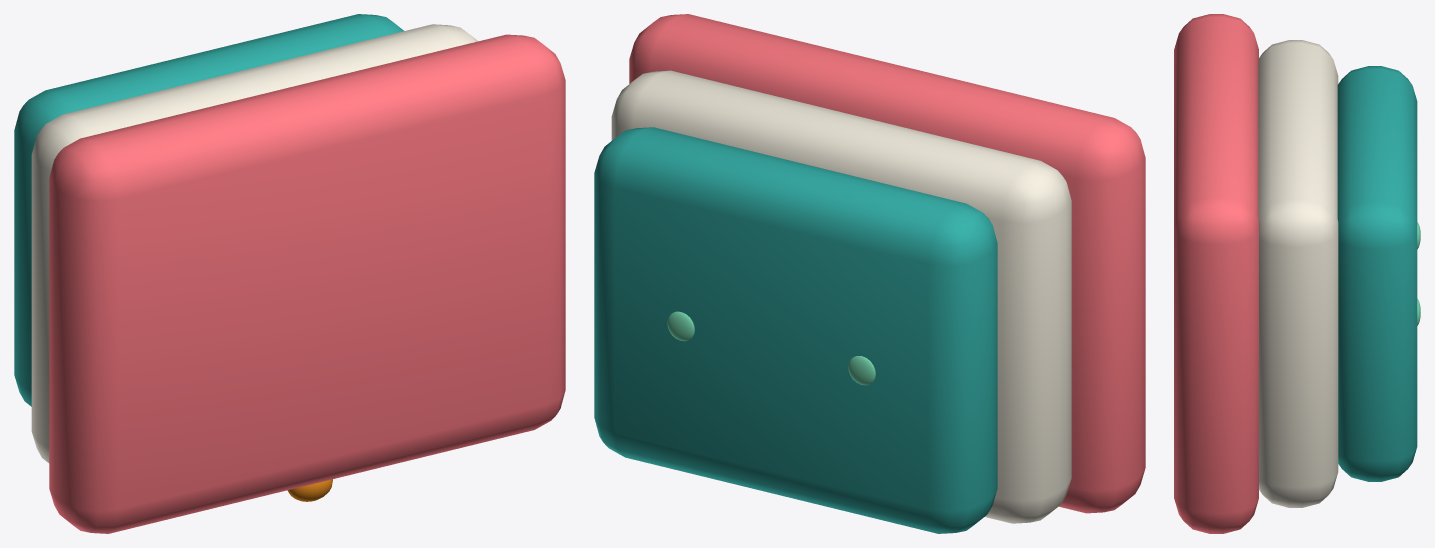
The model's file is RunnerPillows.fbx.
The picture shows the model from 3 angles, left to right: view 1: azimuth 30°, elevation 25°; view 2: azimuth 150°, elevation 25°; view 3: azimuth 270°, elevation 25°; orthographic projection. The views are drawn at different scales.
Visible parts, largest first — view 1: RunnerPillows; view 2: RunnerPillows; view 3: RunnerPillows.
Boxes of the visible parts, <box> form: RunnerPillows: <box>14,14,565,533</box>; RunnerPillows: <box>594,14,1145,533</box>; RunnerPillows: <box>1174,14,1420,533</box>.
Size of the model in its own units: 0.88 by 0.6865 by 0.436.
